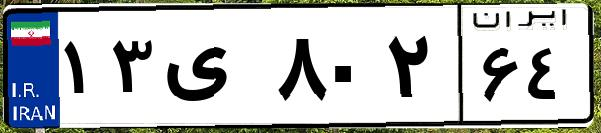0: (330, 28, 385, 110)
1: (57, 26, 110, 100)
2: (385, 28, 445, 110)
3: (110, 28, 158, 98)
4: (525, 38, 570, 115)
6: (475, 38, 525, 113)
8: (270, 28, 330, 110)
ی: (158, 20, 270, 120)
